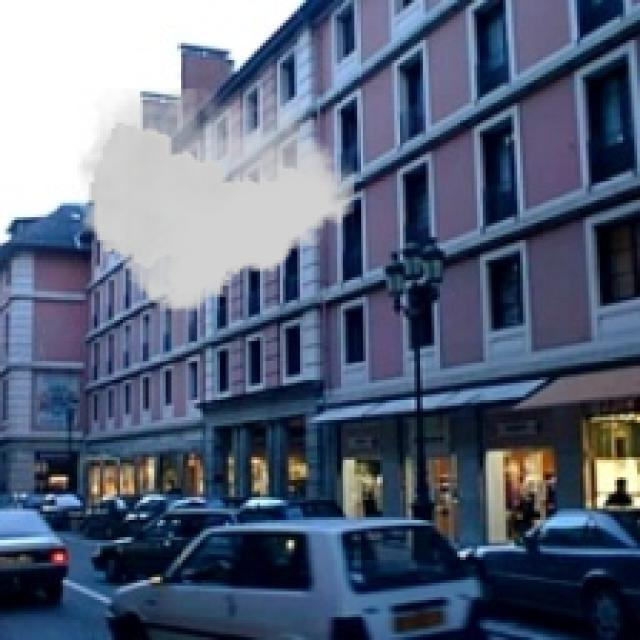smoke: (77, 88, 354, 312)
